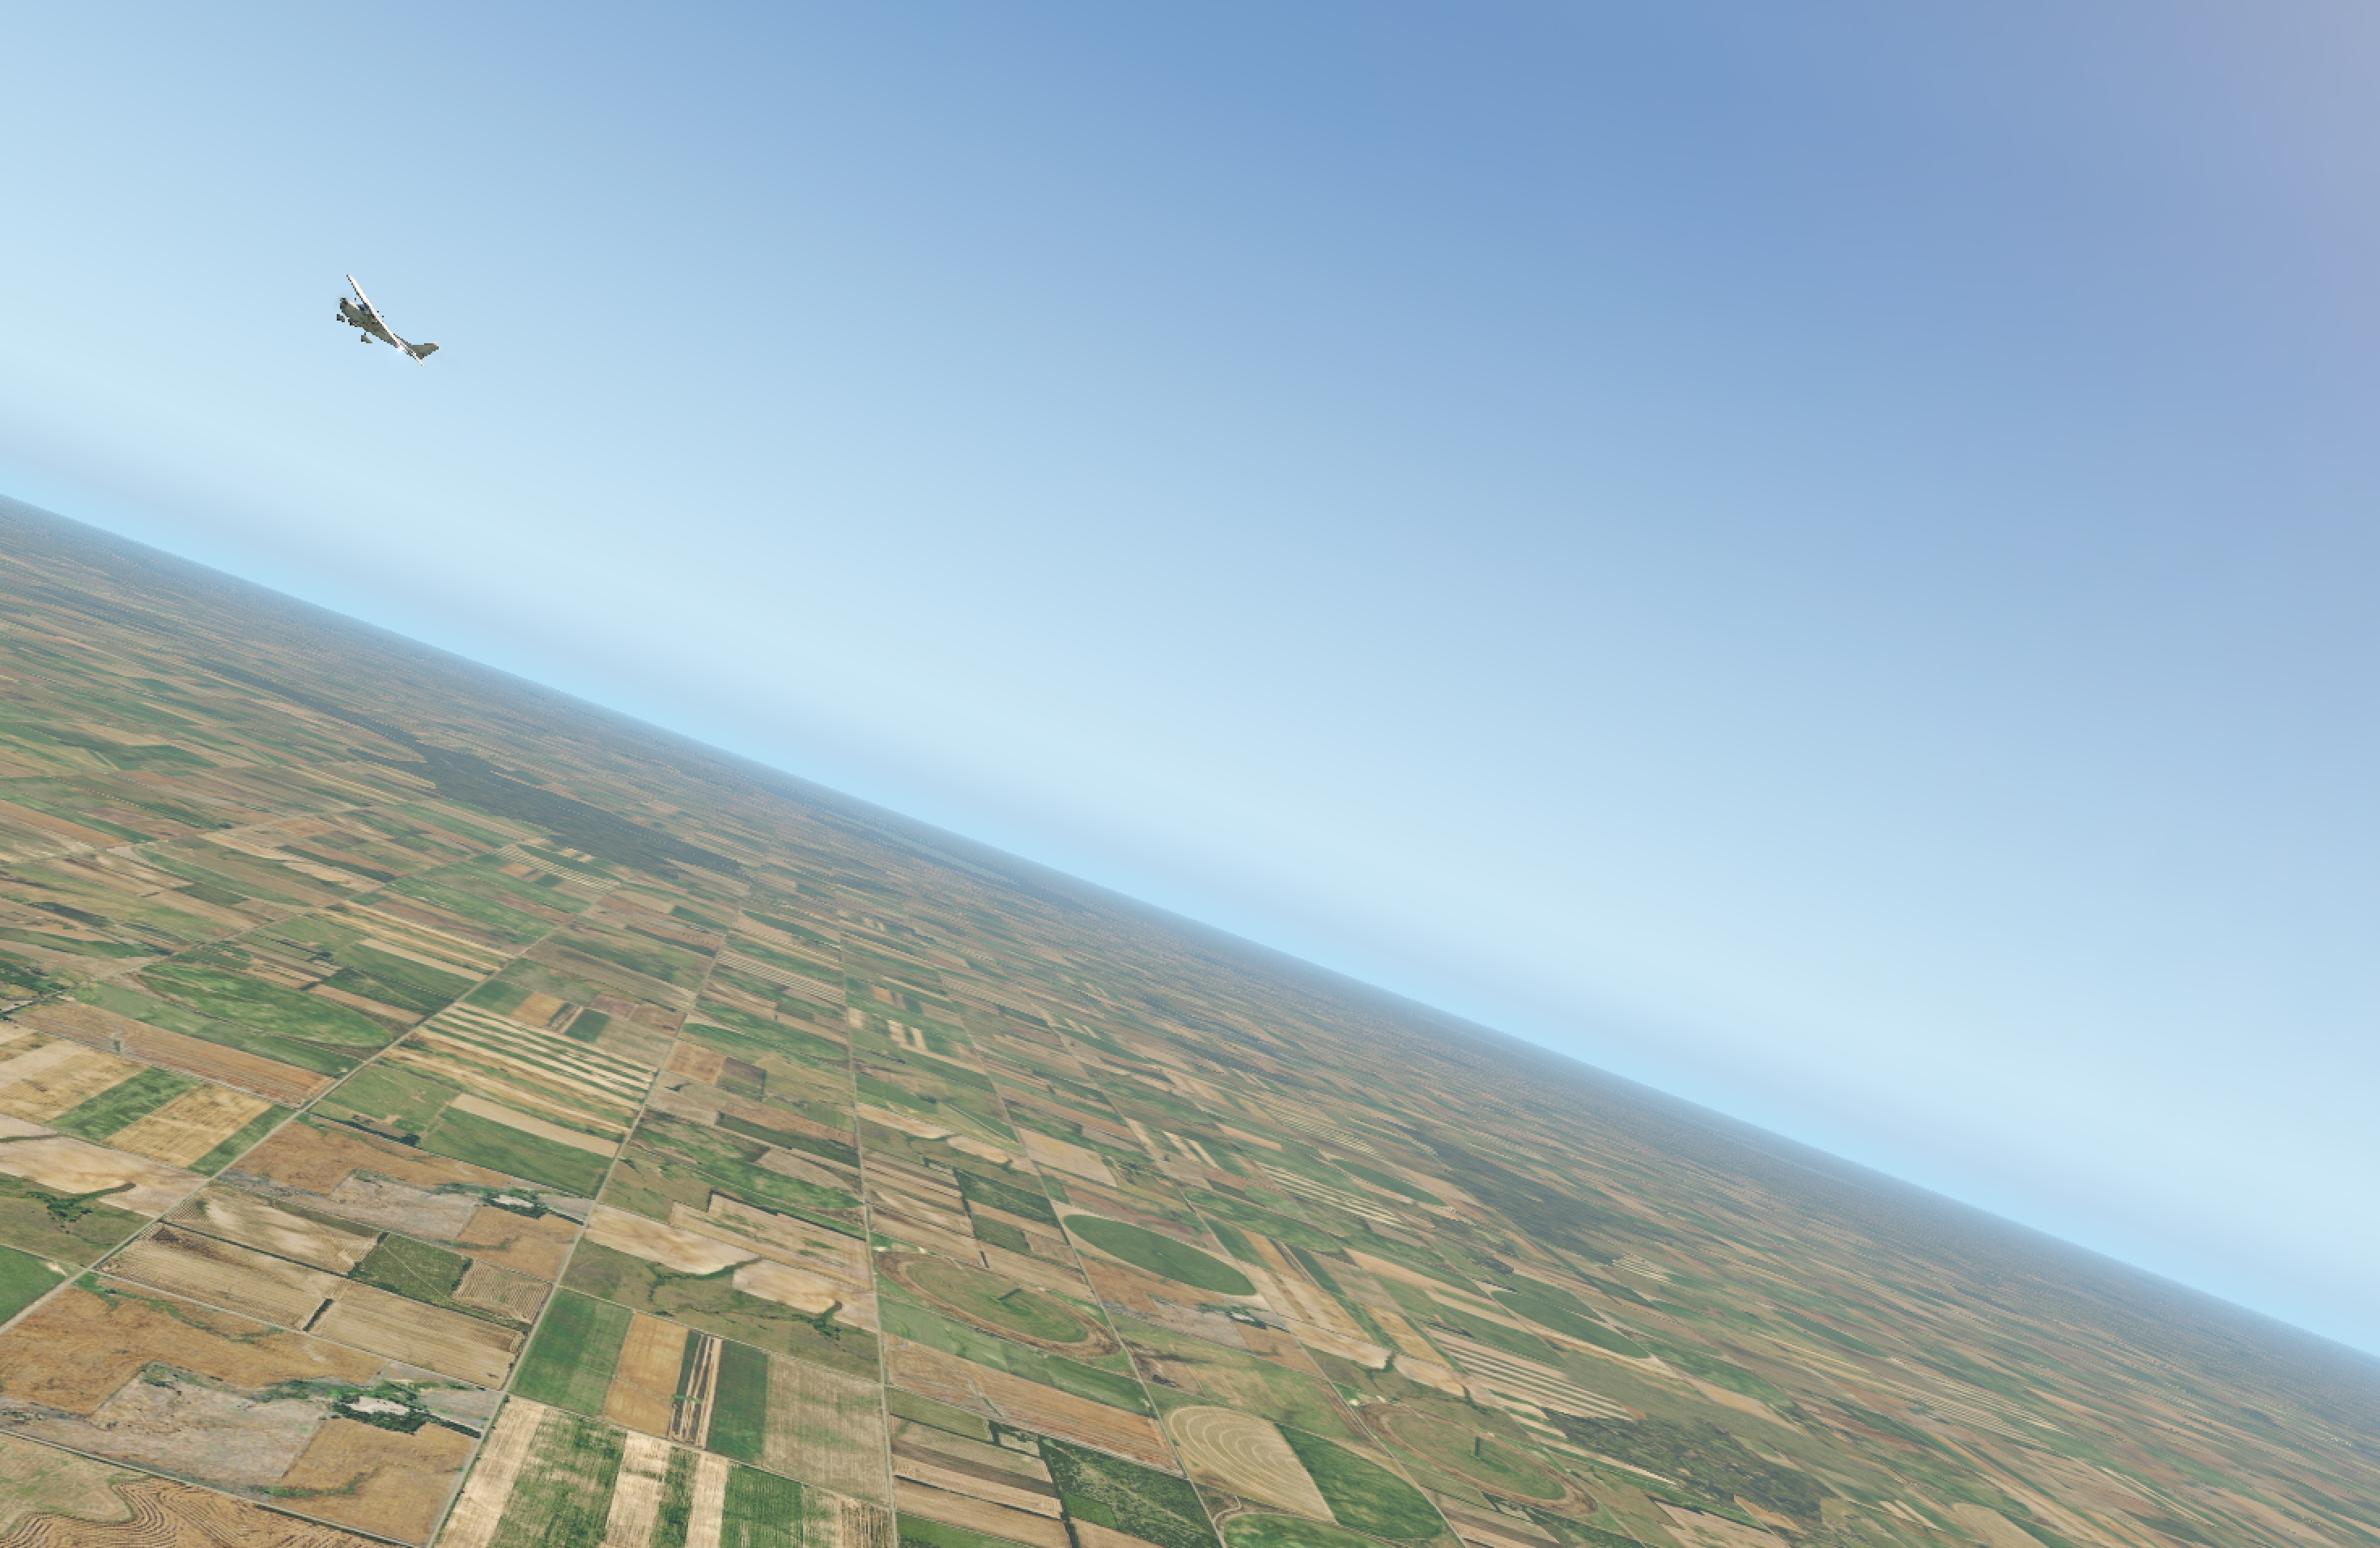aircraft: (316, 298, 418, 337)
